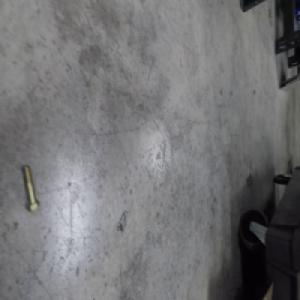Bolt: (21, 162, 40, 210)
